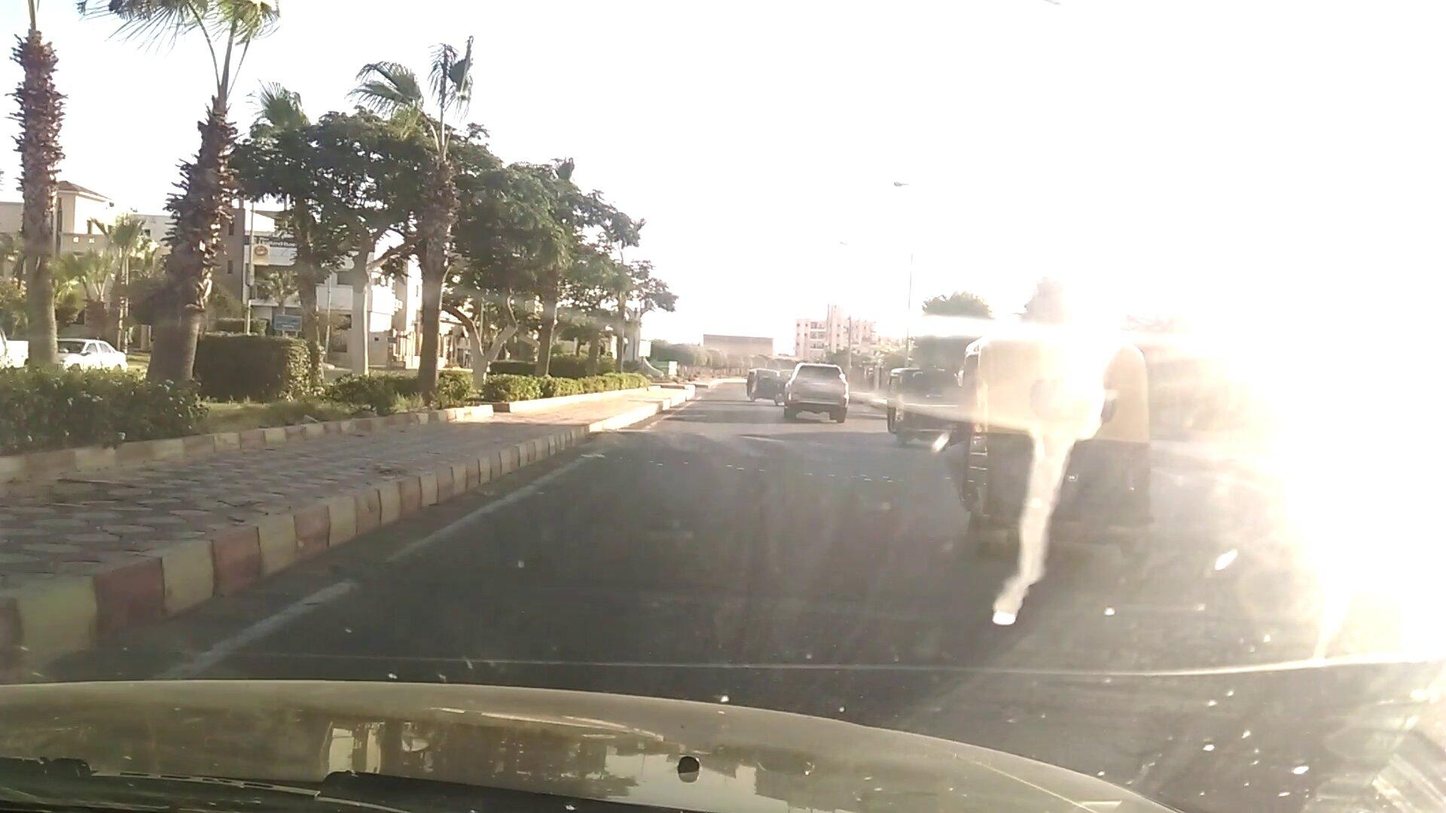Bump: (586, 423, 917, 465)
